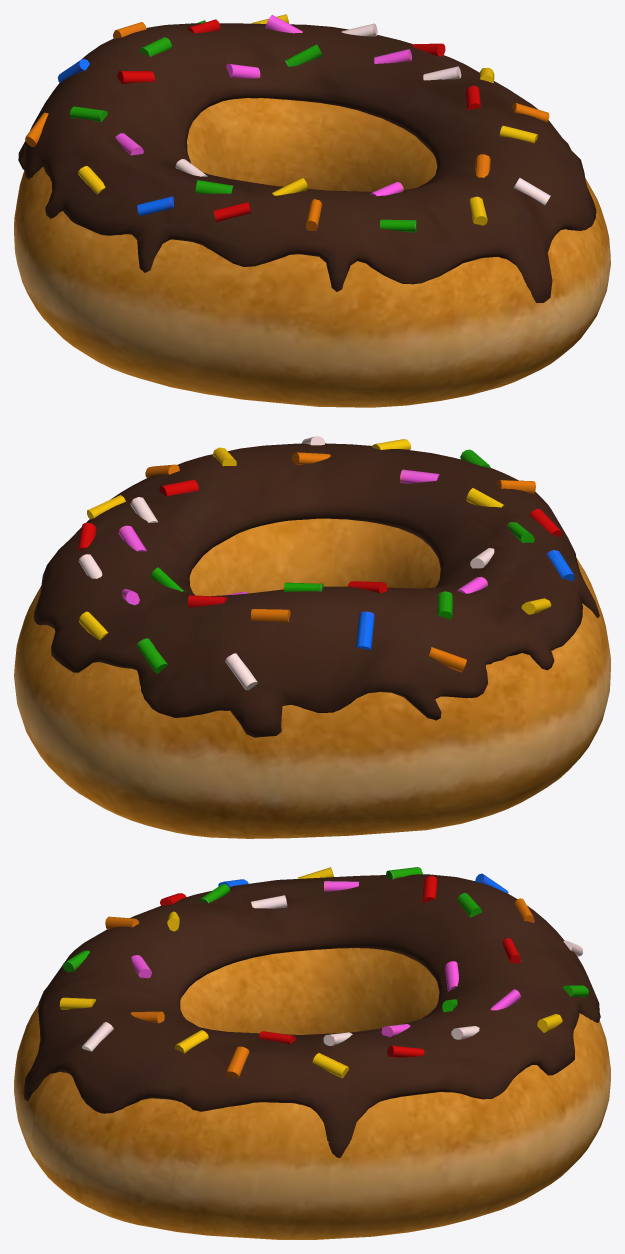
File: food_prepared_donut_a01.glb
3 views of the same model, one above another, from view 1: azimuth 30°, elevation 25°; view 2: azimuth 150°, elevation 25°; view 3: azimuth 270°, elevation 25° (orthographic). The views are drawn at different scales.
Parts seen in each view (by area): view 1: part0; view 2: part0; view 3: part0.
Part boxes in pixels (x1,y1,x2,y2): part0: (14,14,610,407); part0: (14,436,610,838); part0: (14,867,610,1239).
Bounding box in the file's own units: 0.0963 × 0.0443 × 0.105.
Materials: 1 (1 with a texture image).
